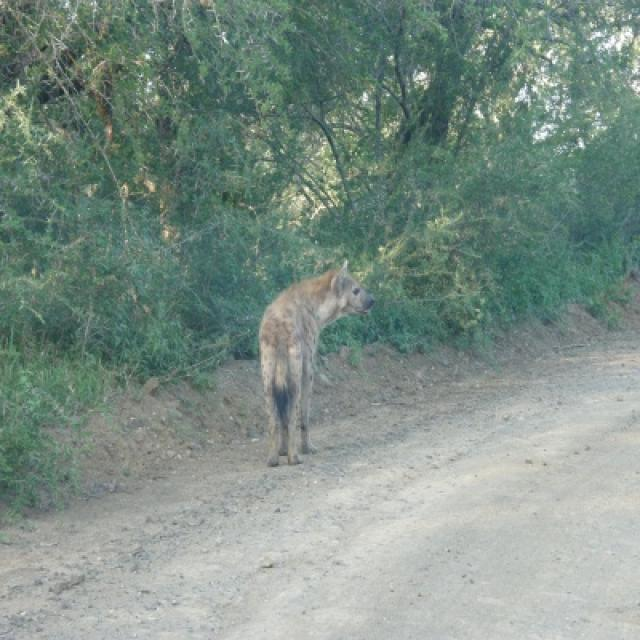hyena: (259, 259, 373, 462)
